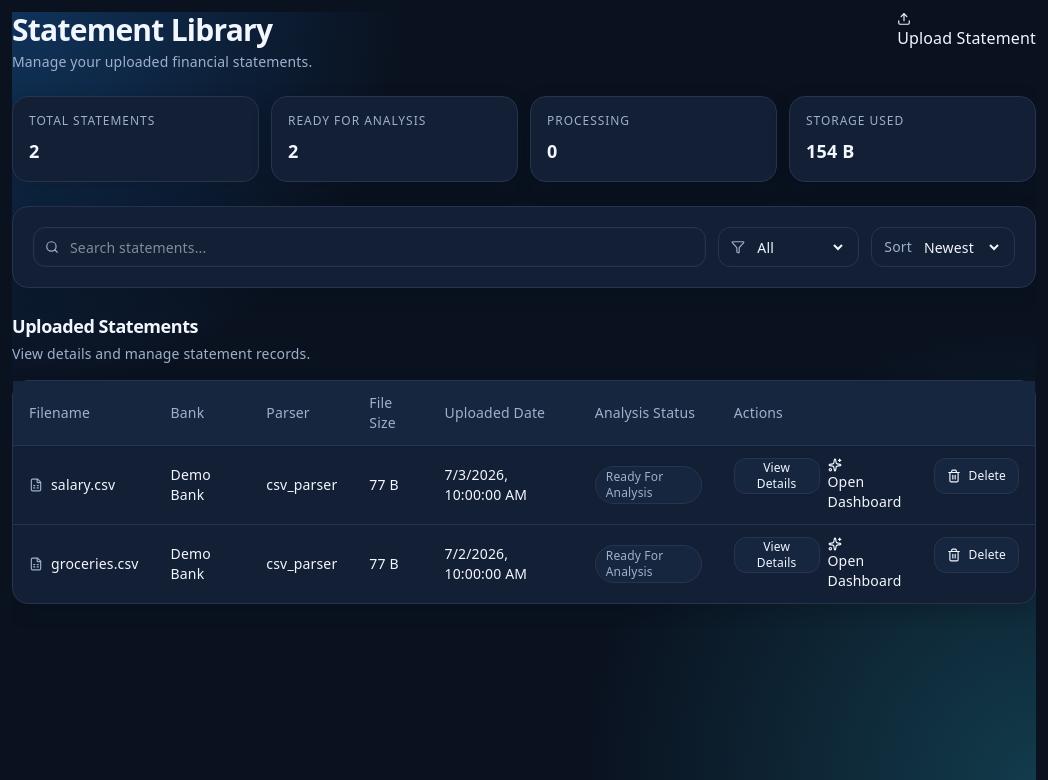
Test: AppStatementsPage › filters statements by instant search
The width and height of the screenshot is (1048, 780).
In the field labelled "Search statements": [370, 247] box [33,227,706,267], type "groc"
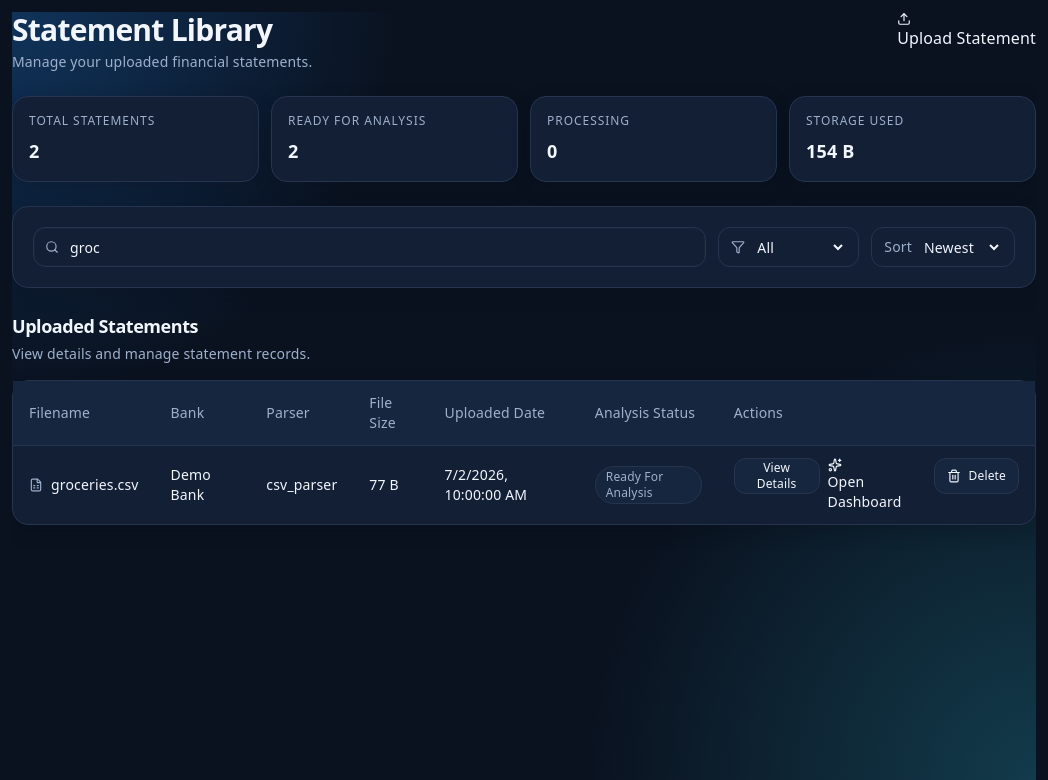
Expected: the text "salary.csv" is not shown
Expected: the text "groceries.csv" is shown 2 times
